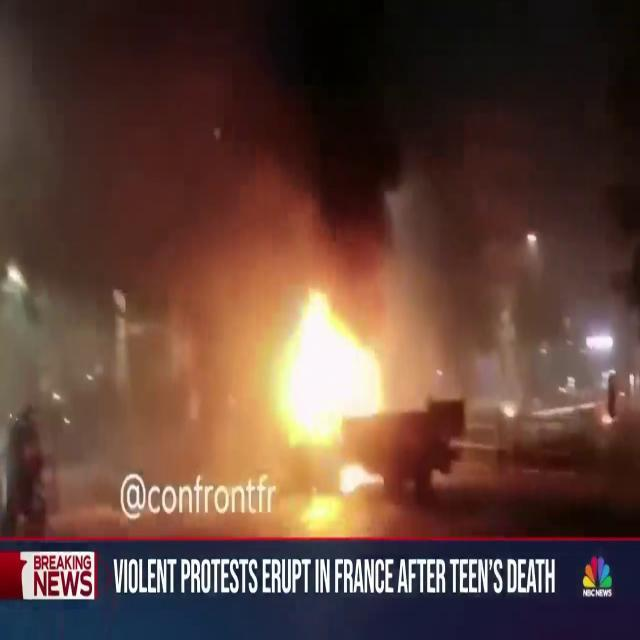Fire: (249, 278, 397, 454)
Smoke: (0, 1, 310, 507), (367, 46, 639, 380)
